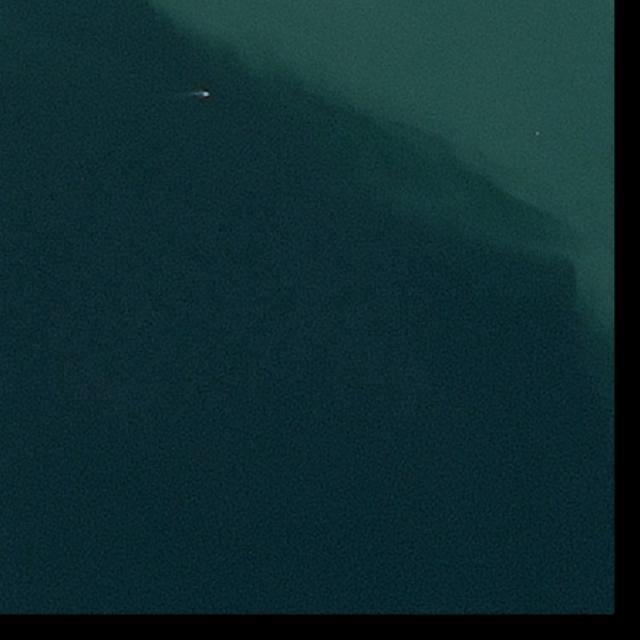ship: (202, 90, 211, 98)
